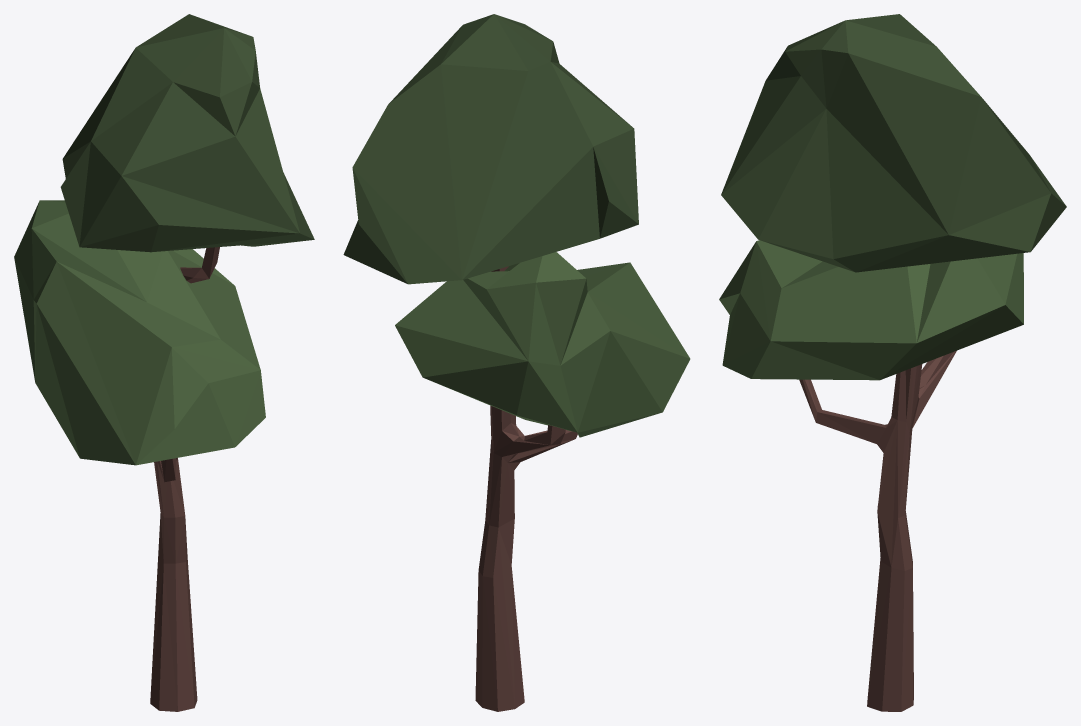
The model's file is qn_tree_c.glb.
3 renders of one model, left to right at view 1: azimuth 30°, elevation 25°; view 2: azimuth 150°, elevation 25°; view 3: azimuth 270°, elevation 25°, orthographic. The views are drawn at different scales.
Parts seen in each view (by area): view 1: qn_tree_c; view 2: qn_tree_c; view 3: qn_tree_c.
Part boxes in pixels (x1,y1,x2,y2): qn_tree_c: [14, 14, 314, 711]; qn_tree_c: [343, 14, 690, 711]; qn_tree_c: [719, 14, 1066, 711].
Bounding box in the file's own units: 1.26 × 3.45 × 1.56.
